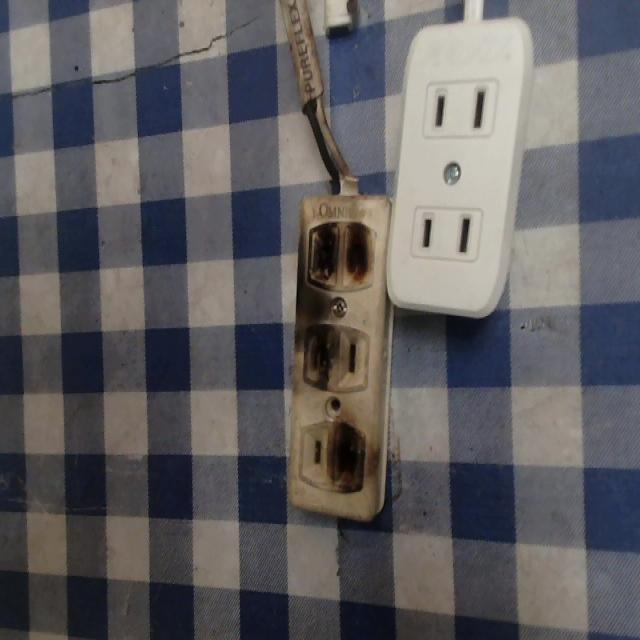-: (300, 210, 381, 298), (325, 410, 368, 490), (295, 317, 337, 392)
